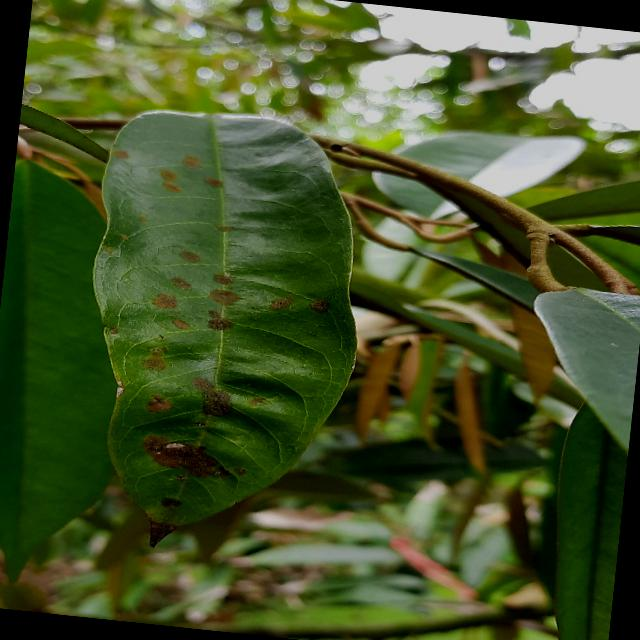Algal Leaf Spot: (57, 91, 388, 574)
